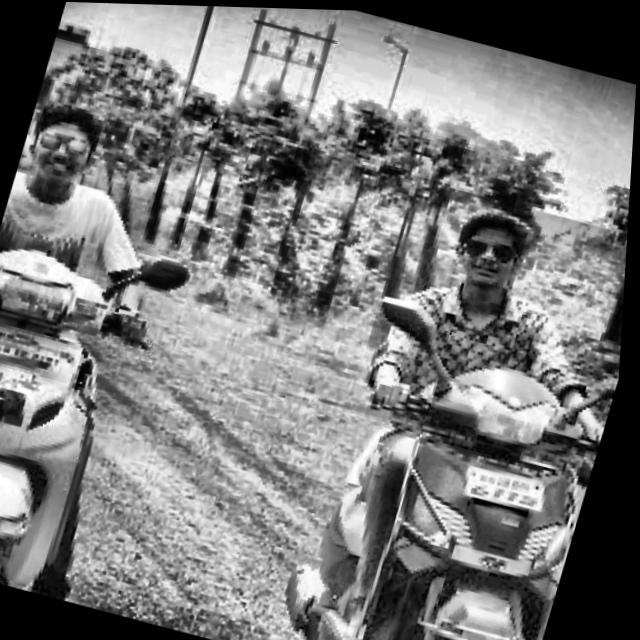motorcycle: (278, 274, 628, 640), (0, 207, 192, 607)
